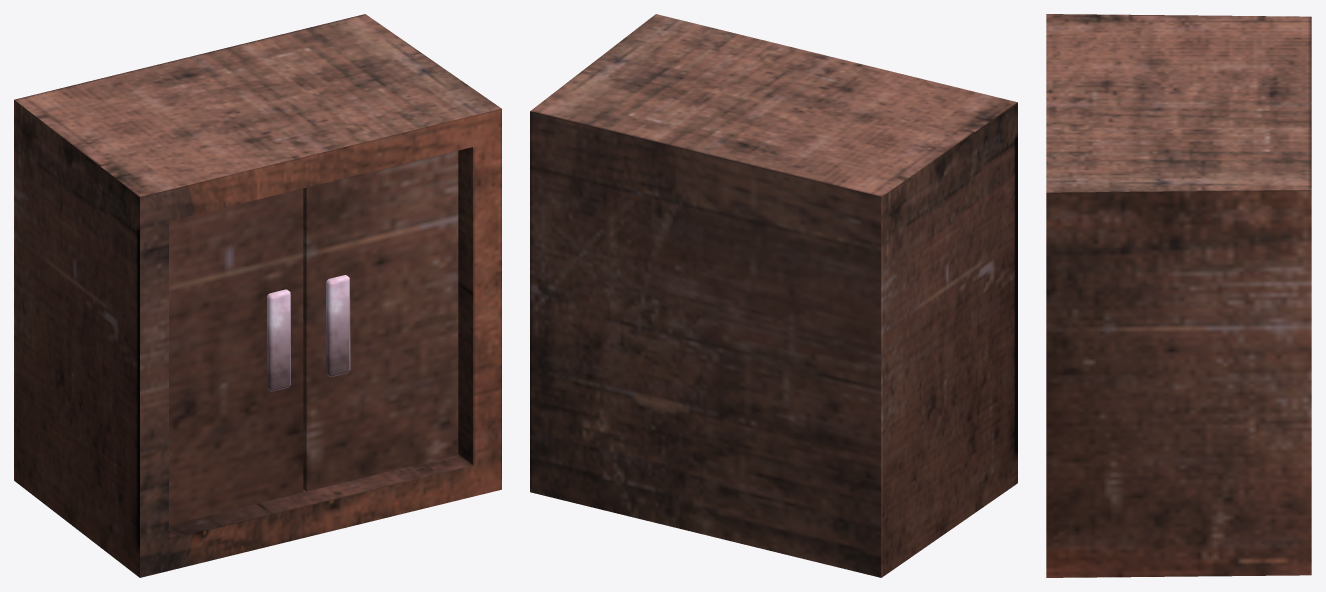
The model's file is Cupboard.glb.
The picture shows the model from 3 angles, left to right: view 1: azimuth 30°, elevation 25°; view 2: azimuth 150°, elevation 25°; view 3: azimuth 270°, elevation 25°; orthographic projection.
Visible parts, largest first — view 1: Cupboard-col, Left-col, Right-col, Handle_L-col, Handle_R-col; view 2: Cupboard-col; view 3: Cupboard-col.
Part boxes in pixels (<box>): Cupboard-col: <box>14,14,501,577</box>; Left-col: <box>303,151,458,491</box>; Right-col: <box>169,188,303,525</box>; Handle_L-col: <box>326,275,350,376</box>; Handle_R-col: <box>267,289,290,391</box>; Cupboard-col: <box>530,14,1017,577</box>; Cupboard-col: <box>1046,14,1311,577</box>.
Size of the model in its own units: 1.17 by 1.18 by 0.7333.
2 materials, 2 textured.
